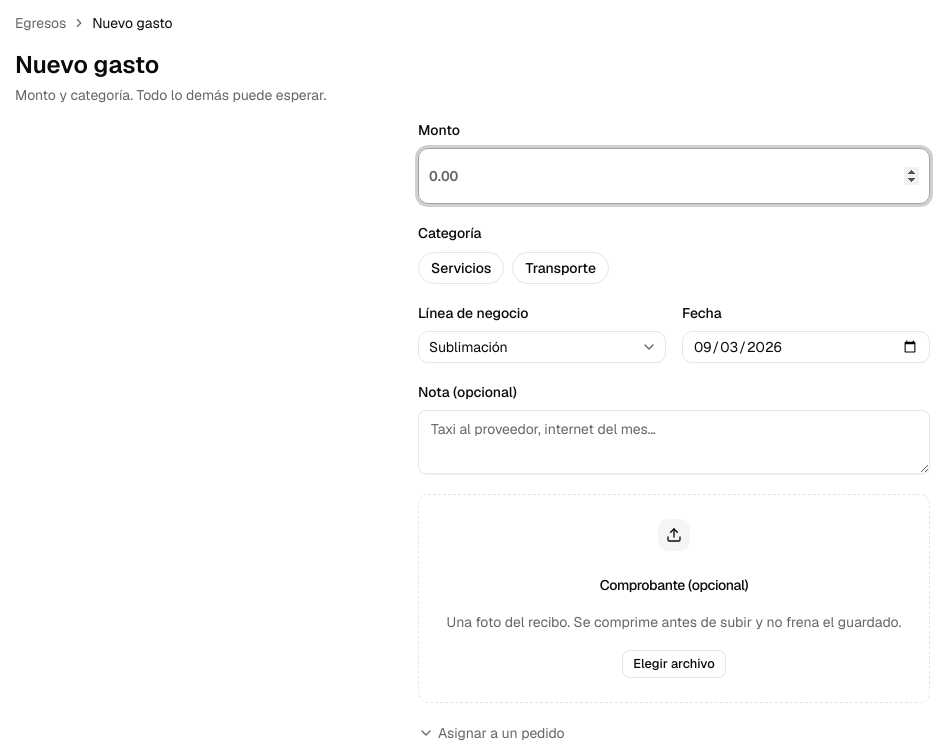
Test: CostForm (V9) › sin categoría se impide señalando las categorías
Type "120" into the number field labelled "Monto" at (674, 176), box [418,148,930,204]
(page scrolled)
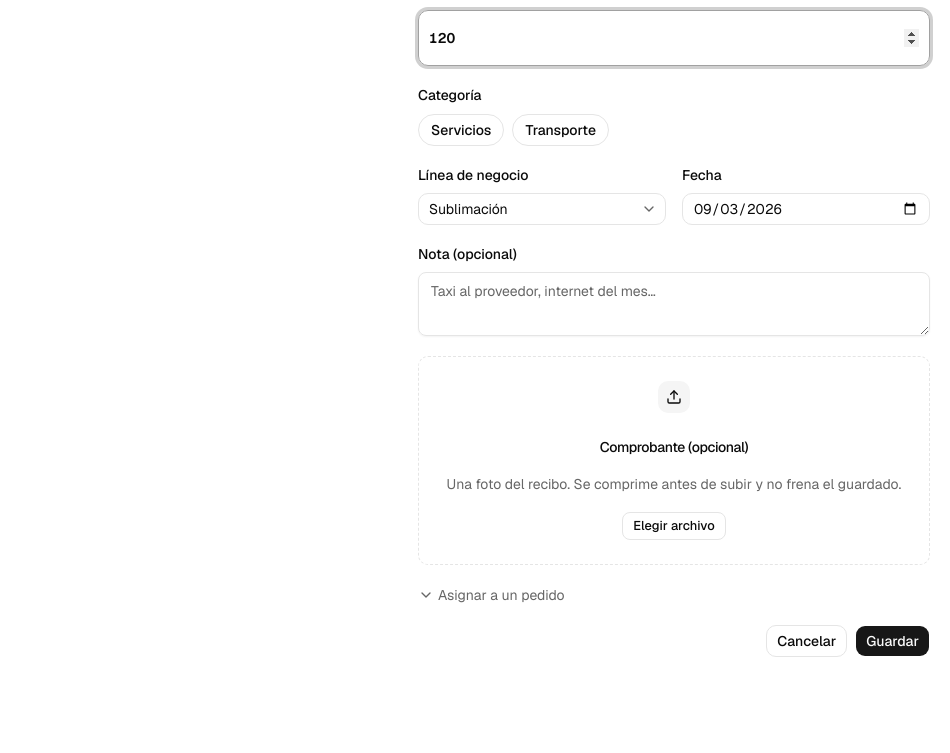
Click the button with test id "save-cost" at (893, 641), box [855,625,930,657]
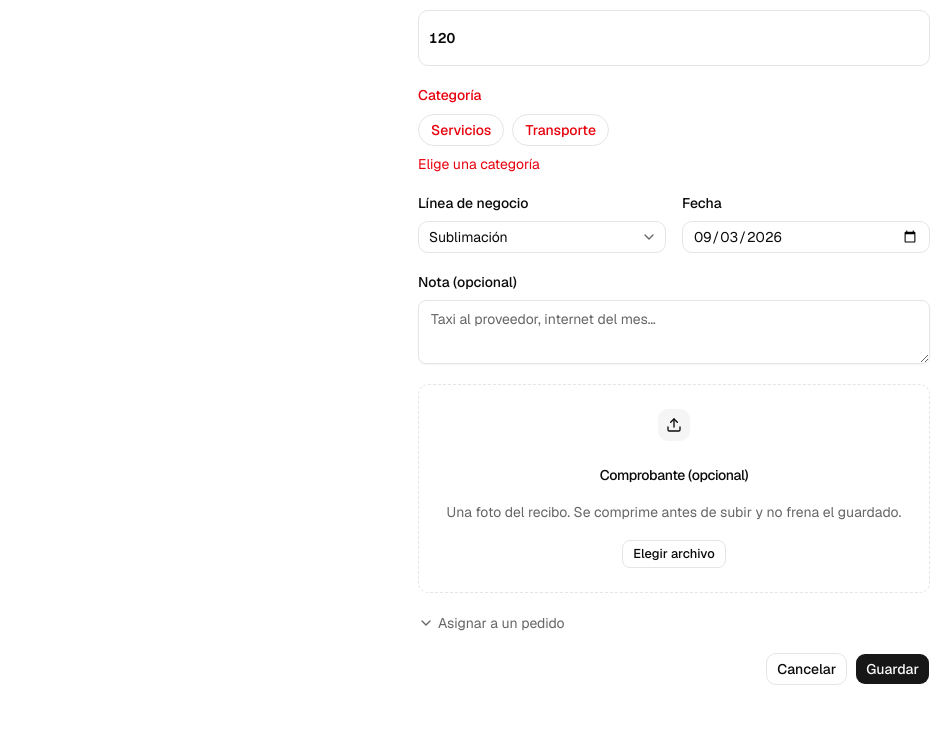
Expected: the message with test id "category-error" reads "Elige una categoría", [418,154,540,172]
